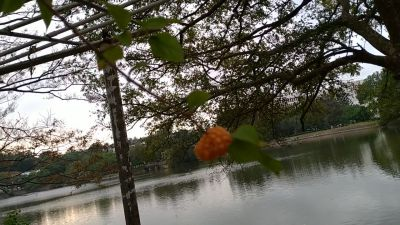eggs: (193, 125, 234, 162)
